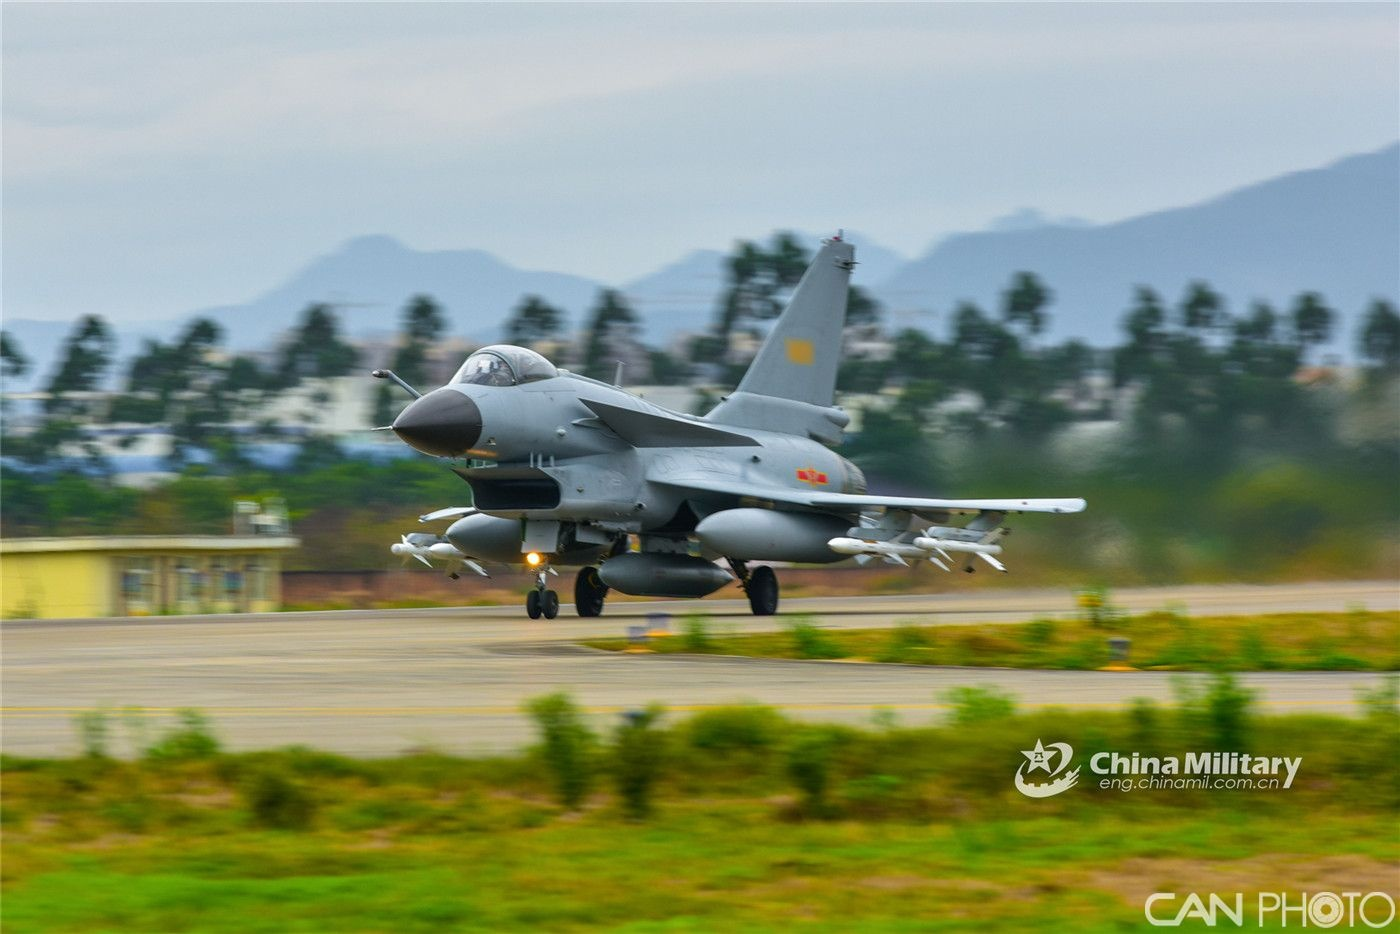airplane: (369, 228, 1103, 609)
